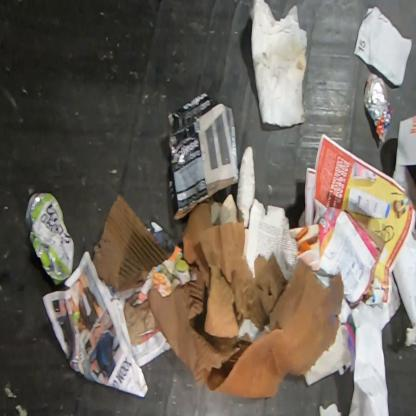cardboard: (199, 222, 290, 351), (167, 92, 239, 222), (91, 194, 171, 294)
metal: (23, 192, 74, 288), (363, 74, 393, 144)
